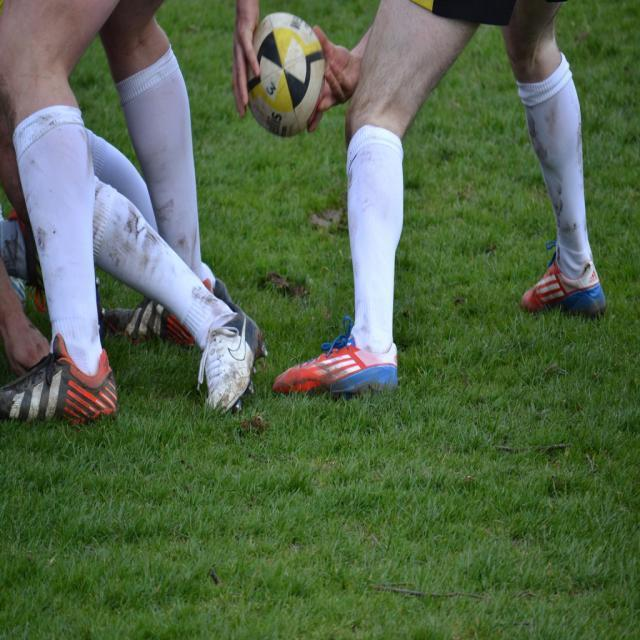football: (217, 1, 329, 132)
